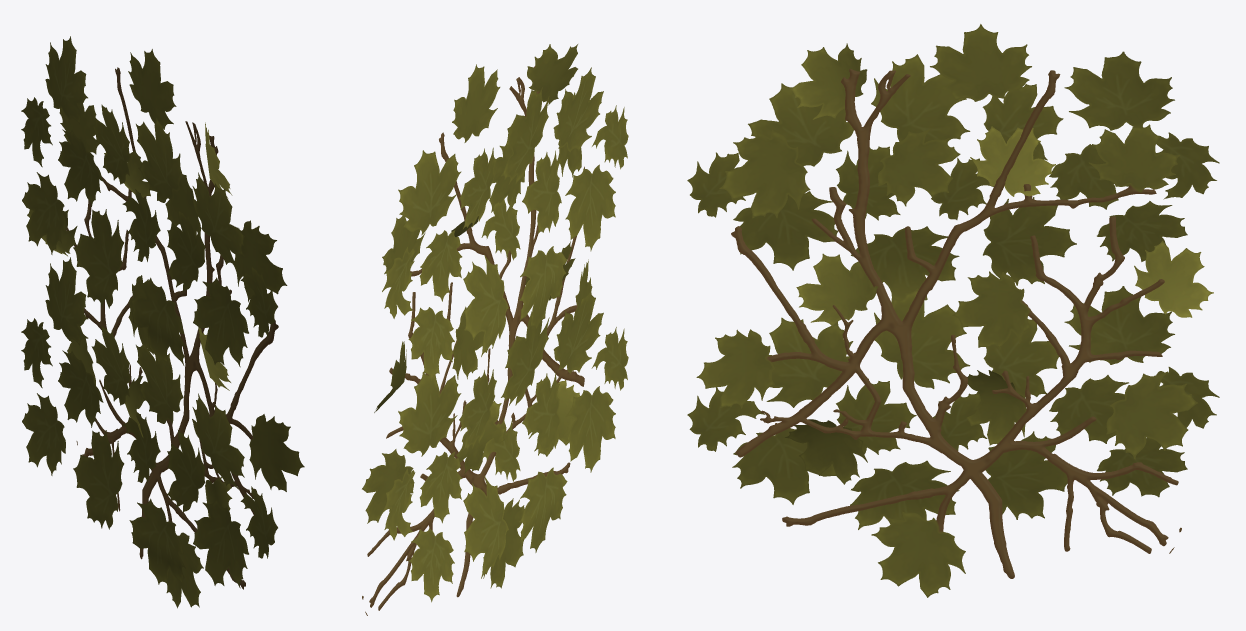
File: SM_vine_04.fbx
3 views of the same model, side by side, from view 1: azimuth 30°, elevation 25°; view 2: azimuth 150°, elevation 25°; view 3: azimuth 270°, elevation 25° (orthographic). The views are drawn at different scales.
Visible parts, largest first — view 1: SM_vine_04_LOD0; view 2: SM_vine_04_LOD0; view 3: SM_vine_04_LOD0.
Boxes of the visible parts, x1,y1,x2,y2 form: SM_vine_04_LOD0: [21, 36, 304, 608]; SM_vine_04_LOD0: [362, 44, 628, 615]; SM_vine_04_LOD0: [687, 24, 1219, 597].
Bounding box in the file's own units: 43.51 × 294 × 344.
Materials: 1 (1 with a texture image).
